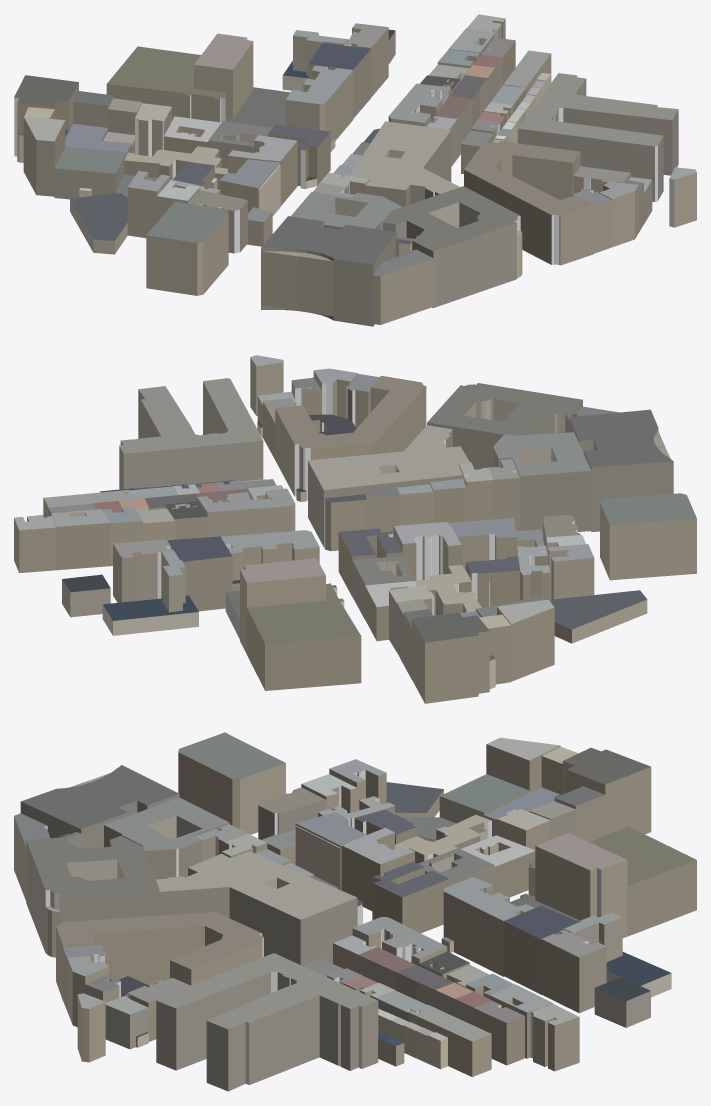
The picture shows the model from 3 angles, top to bottom: view 1: azimuth 30°, elevation 25°; view 2: azimuth 150°, elevation 25°; view 3: azimuth 270°, elevation 25°; orthographic projection. The views are drawn at different scales.
Visible parts, largest first — view 1: tuile; view 2: tuile; view 3: tuile.
Part boxes in pixels (x1,y1,x2,y2): tuile: (14, 14, 696, 326); tuile: (14, 355, 696, 703); tuile: (14, 732, 696, 1091).
Bounding box in the file's own units: 286 × 35.45 × 283.
